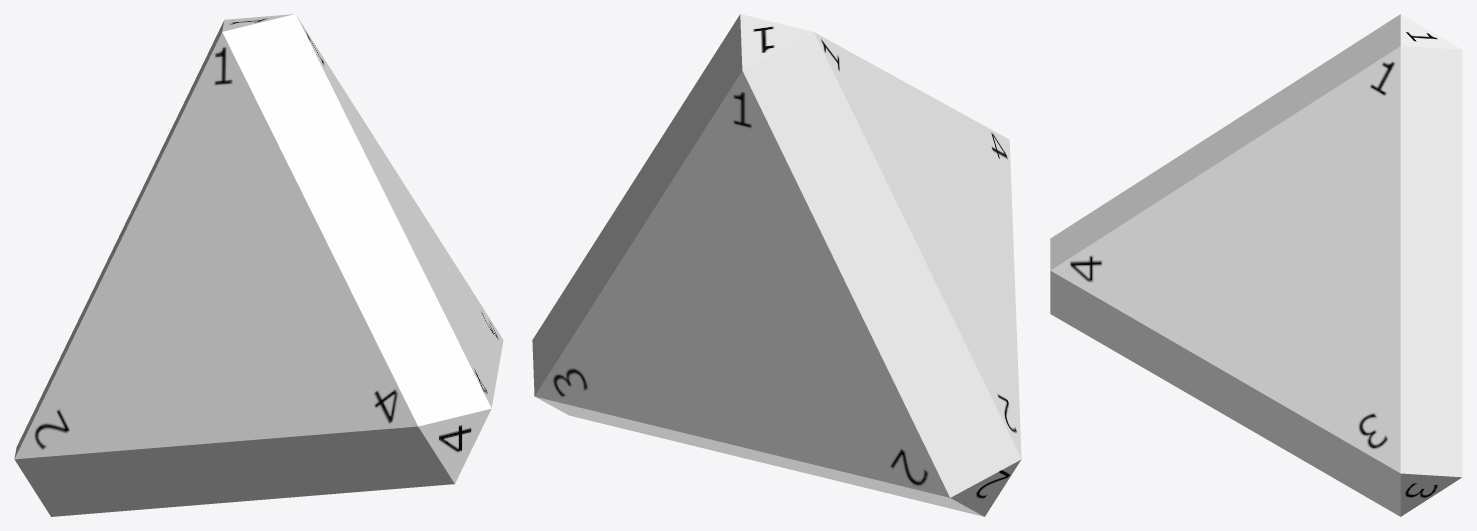
The picture shows the model from 3 angles, left to right: view 1: azimuth 30°, elevation 25°; view 2: azimuth 150°, elevation 25°; view 3: azimuth 270°, elevation 25°; orthographic projection. The views are drawn at different scales.
Parts seen in each view (by area): view 1: obj_0; view 2: obj_0; view 3: obj_0.
Boxes of the visible parts, x1,y1,x2,y2 form: obj_0: (14,14,503,516); obj_0: (532,14,1021,516); obj_0: (1050,14,1462,516).
Bounding box in the file's own units: 385 × 333 × 314.
1 material, 1 textured.
